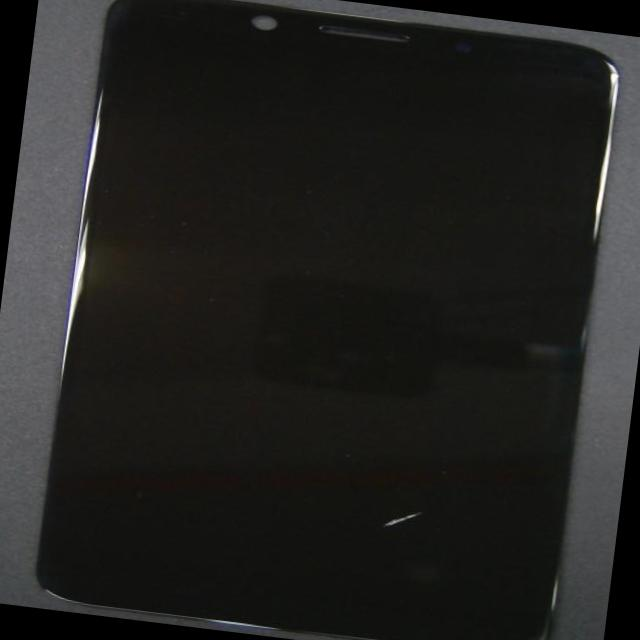scratch: (360, 502, 420, 538)
